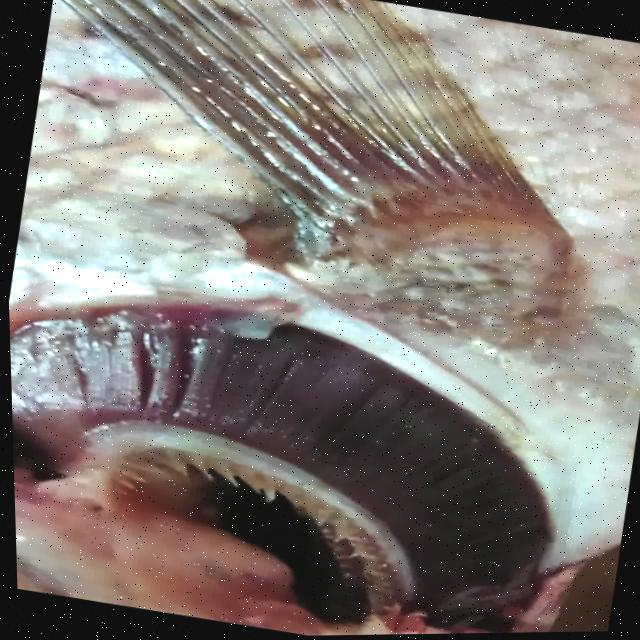Non-Fresh: (6, 251, 576, 640)
